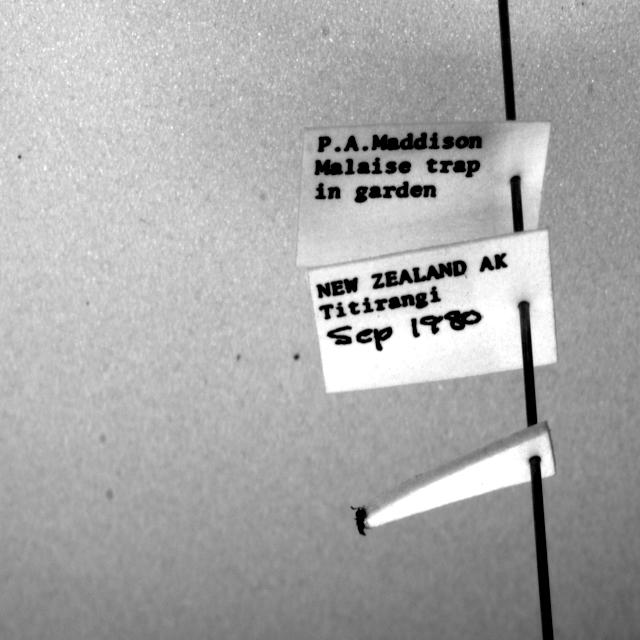mixed_label: (309, 231, 558, 392)
typed_label: (296, 120, 550, 268)
